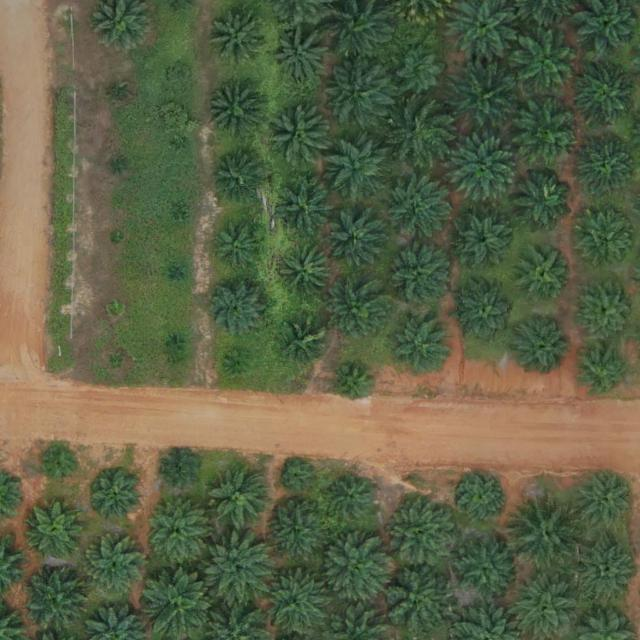Kelapa_Sawit: (383, 492, 461, 570), (507, 492, 585, 570), (447, 137, 517, 208), (325, 56, 395, 127), (20, 565, 90, 636), (510, 29, 580, 99), (445, 62, 515, 132), (201, 273, 271, 343), (201, 532, 271, 602), (319, 534, 389, 604), (141, 564, 210, 635), (505, 573, 571, 639), (265, 566, 330, 633), (383, 567, 451, 629), (446, 0, 515, 60), (319, 0, 392, 56), (574, 64, 636, 127), (575, 133, 637, 196), (517, 98, 579, 161), (324, 136, 386, 199), (267, 104, 329, 167), (272, 174, 334, 237), (327, 279, 389, 342), (385, 244, 447, 307), (389, 313, 451, 376), (80, 536, 142, 599), (145, 499, 207, 562), (208, 466, 270, 529), (264, 500, 326, 563), (510, 168, 572, 230), (390, 101, 452, 163), (385, 177, 447, 239), (455, 281, 517, 343), (512, 313, 574, 375), (576, 279, 638, 341), (454, 537, 516, 599), (573, 469, 635, 531), (575, 542, 637, 604), (573, 0, 634, 54), (87, 0, 152, 50), (213, 218, 268, 273), (453, 214, 508, 269), (211, 150, 266, 205), (279, 245, 334, 300), (28, 501, 83, 556), (89, 469, 144, 524), (578, 214, 632, 269), (328, 215, 382, 270), (273, 28, 327, 83), (211, 8, 265, 63), (207, 84, 261, 139), (517, 246, 571, 301), (576, 344, 630, 399), (83, 599, 142, 640), (205, 603, 266, 639), (396, 46, 442, 93), (459, 473, 505, 520), (283, 319, 329, 365), (328, 474, 374, 520), (333, 365, 372, 404), (160, 451, 199, 490), (41, 446, 79, 485), (281, 461, 312, 492), (166, 59, 192, 85), (227, 350, 250, 373), (106, 81, 126, 101), (165, 261, 184, 282), (164, 330, 184, 348), (106, 299, 125, 317), (167, 204, 185, 221), (108, 157, 125, 174), (171, 135, 189, 151), (105, 351, 121, 369), (108, 229, 124, 246)
